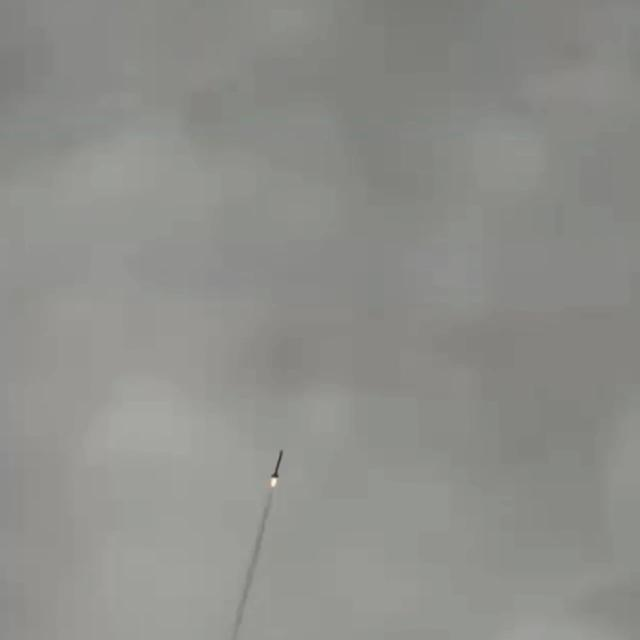smoke_trail_with_rocket: (225, 450, 286, 640)
